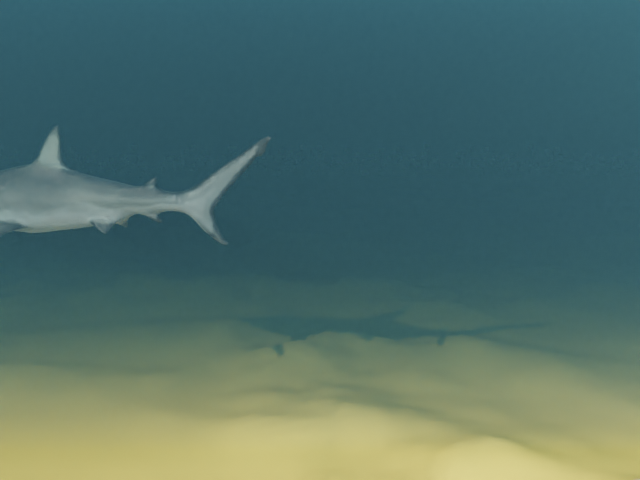Carribean Shark.001: (0, 125, 271, 253)
